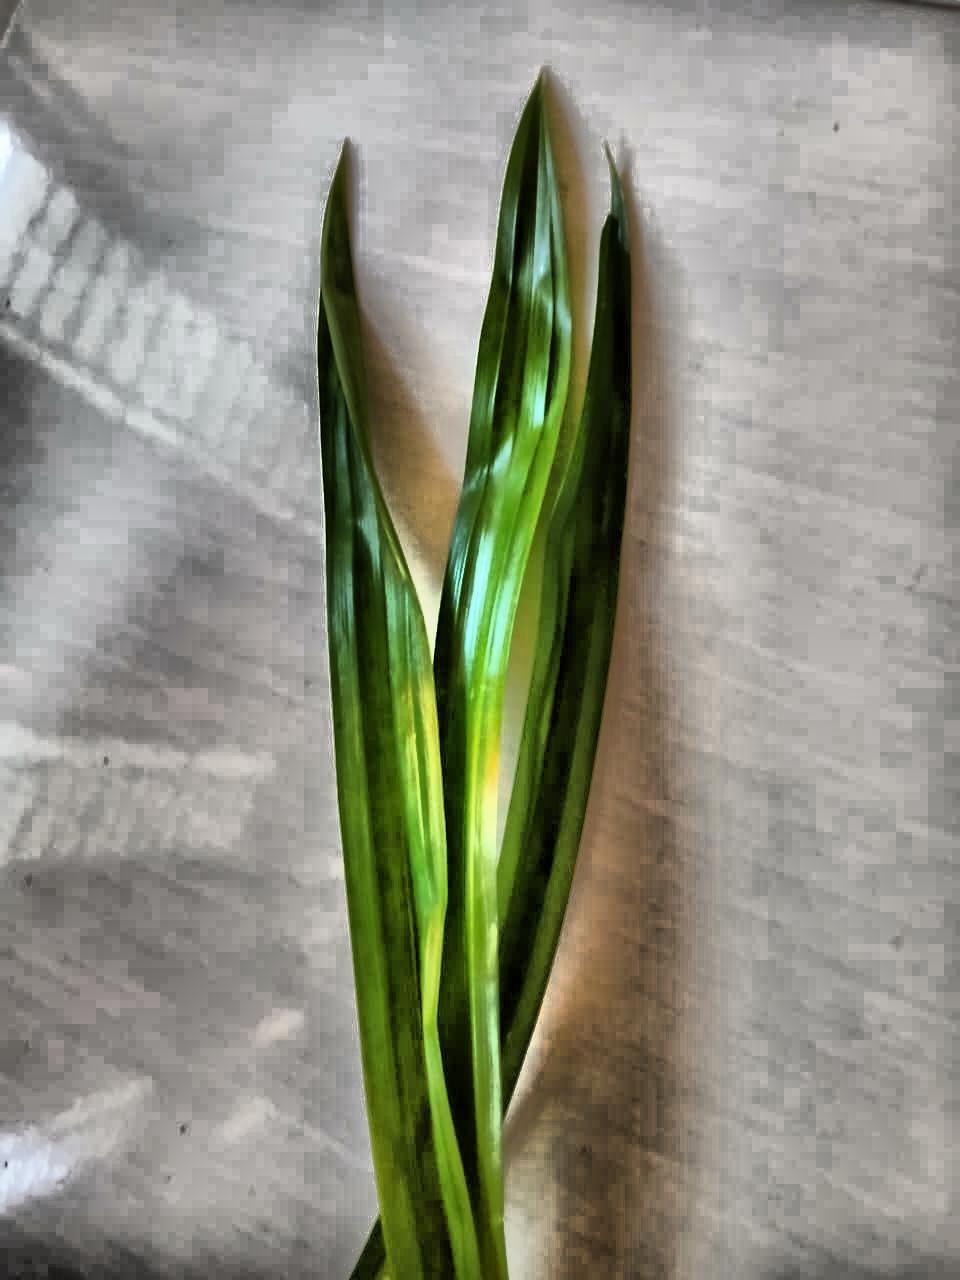daun pandan: (317, 79, 633, 1279)
